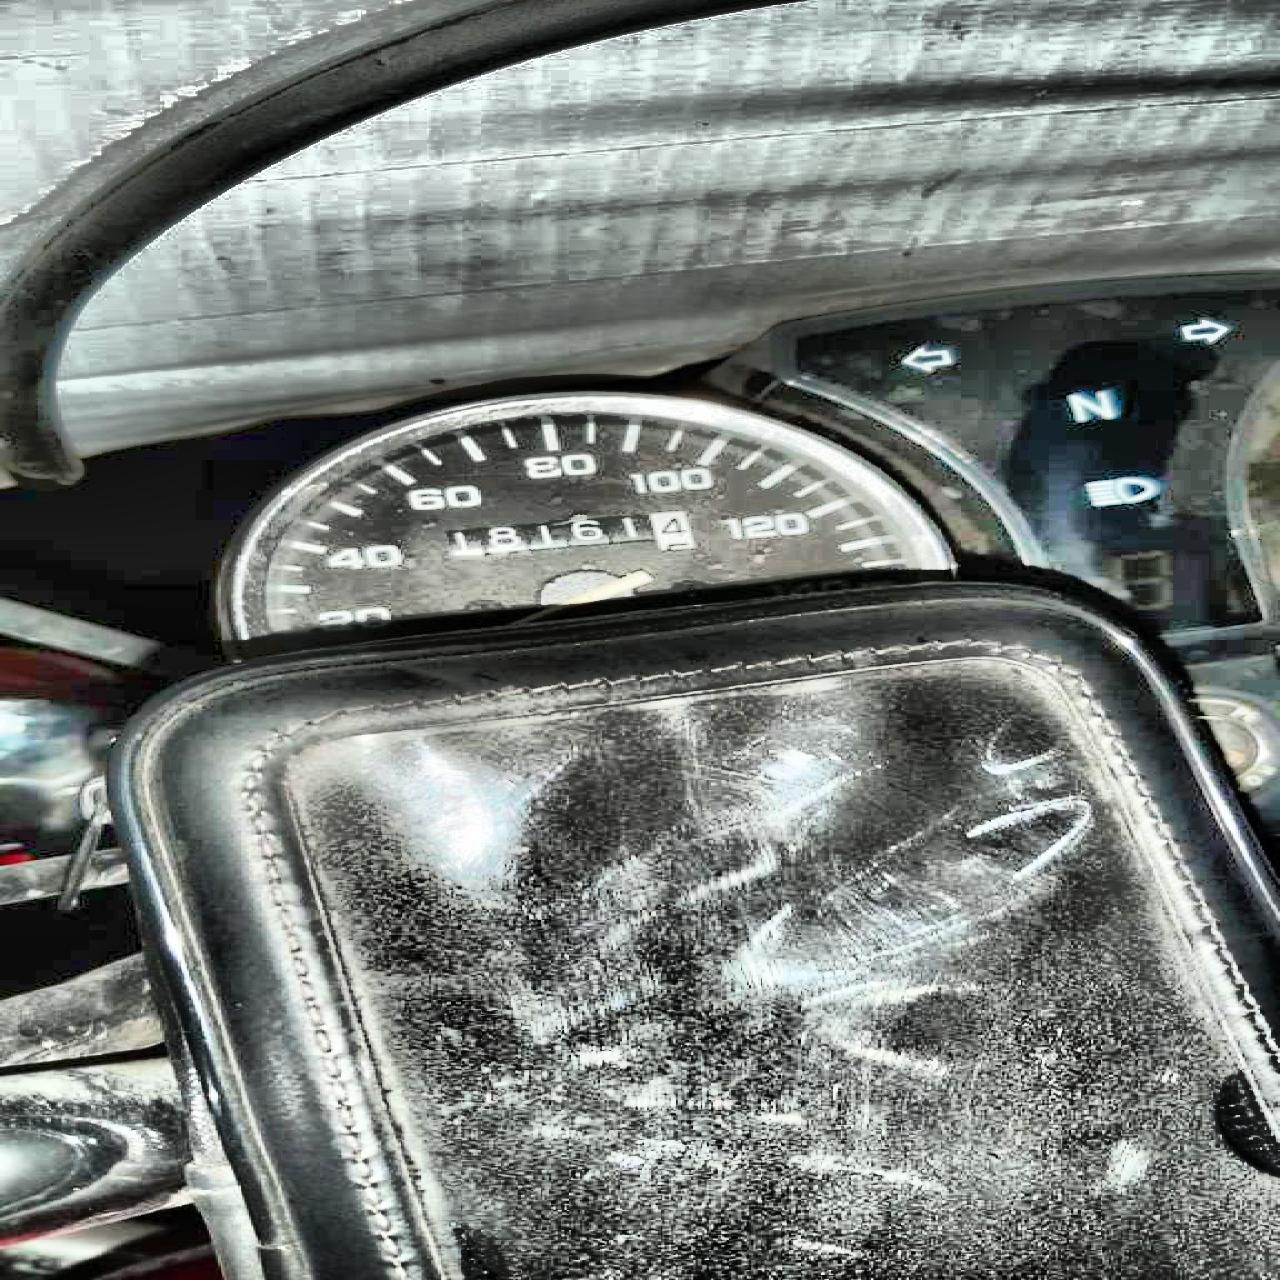1: (615, 513, 638, 538), (533, 522, 553, 544), (451, 529, 467, 551)
4: (655, 515, 687, 536)
6: (568, 517, 602, 542)
8: (482, 525, 520, 546)
odometer: (436, 508, 697, 558)
